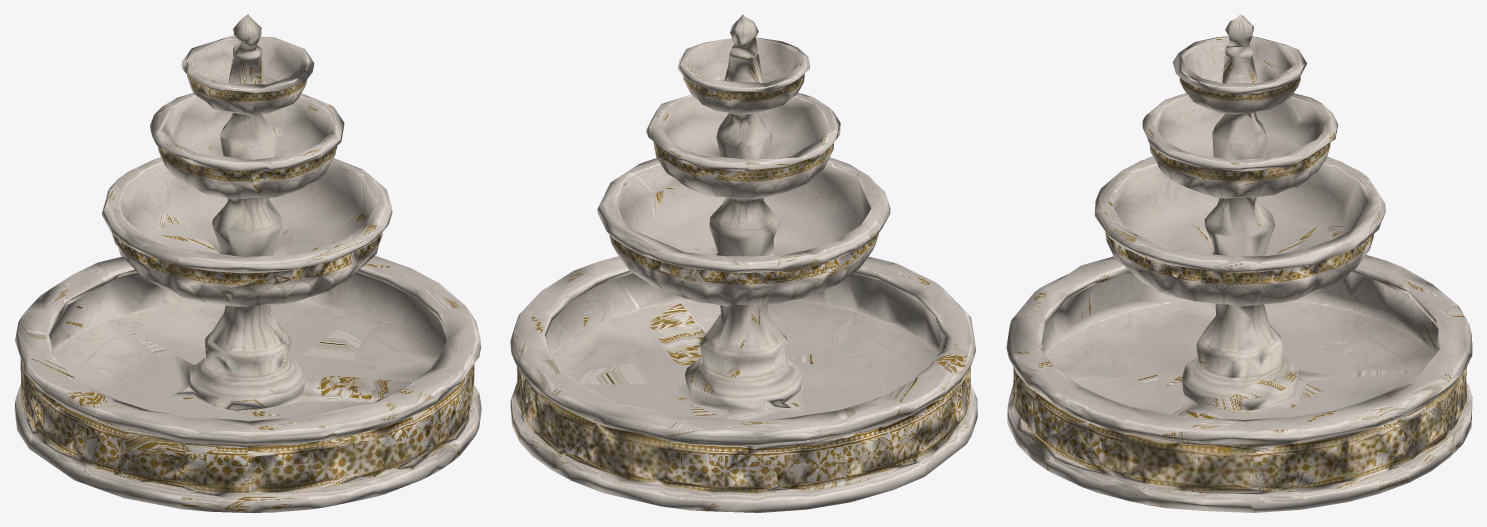
File: fountain.glb
3 views of the same model, side by side, from view 1: azimuth 30°, elevation 25°; view 2: azimuth 150°, elevation 25°; view 3: azimuth 270°, elevation 25° (orthographic).
Parts seen in each view (by area): view 1: Mesh_0; view 2: Mesh_0; view 3: Mesh_0.
Boxes of the visible parts, <box> form: Mesh_0: <box>14,14,481,512</box>; Mesh_0: <box>510,14,977,512</box>; Mesh_0: <box>1006,14,1472,512</box>.
Size of the model in its own units: 3.38 by 3.2 by 3.37.
Materials: 1 (1 with a texture image).
